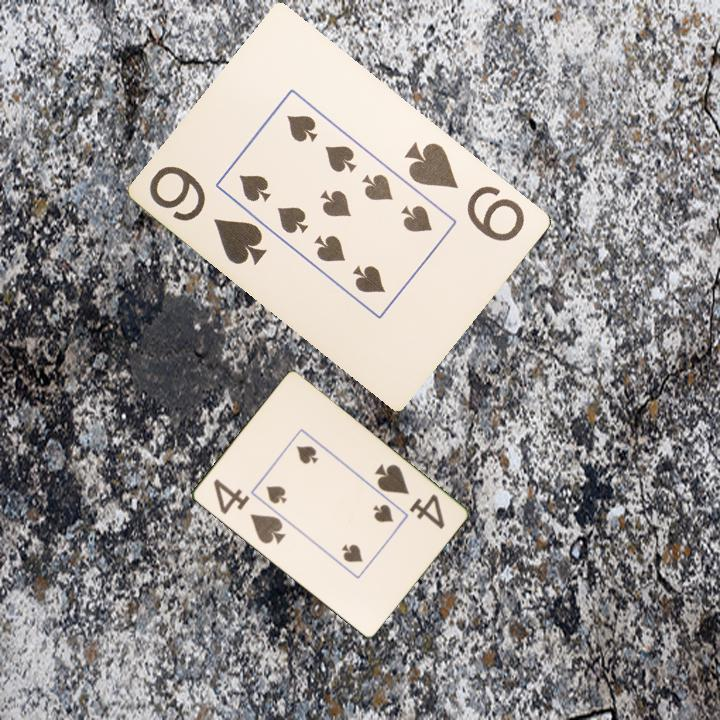4s: (209, 475, 288, 547), (370, 460, 447, 532)
9s: (401, 137, 529, 245), (146, 161, 271, 268)
